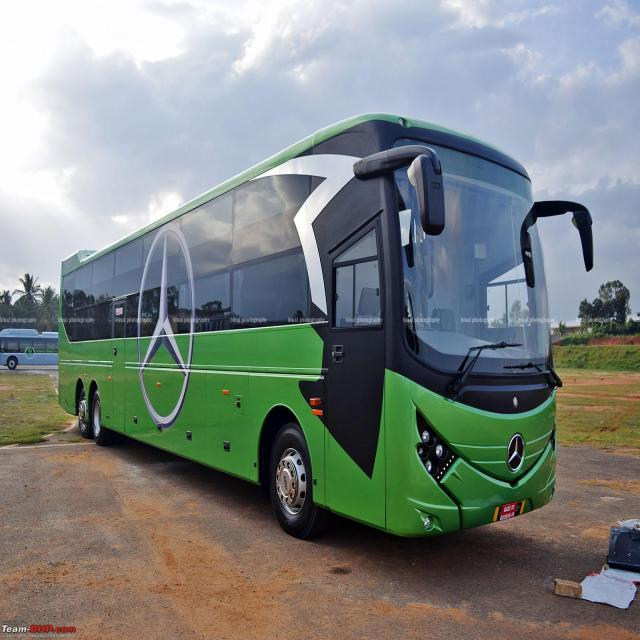bus: (59, 113, 594, 537)
